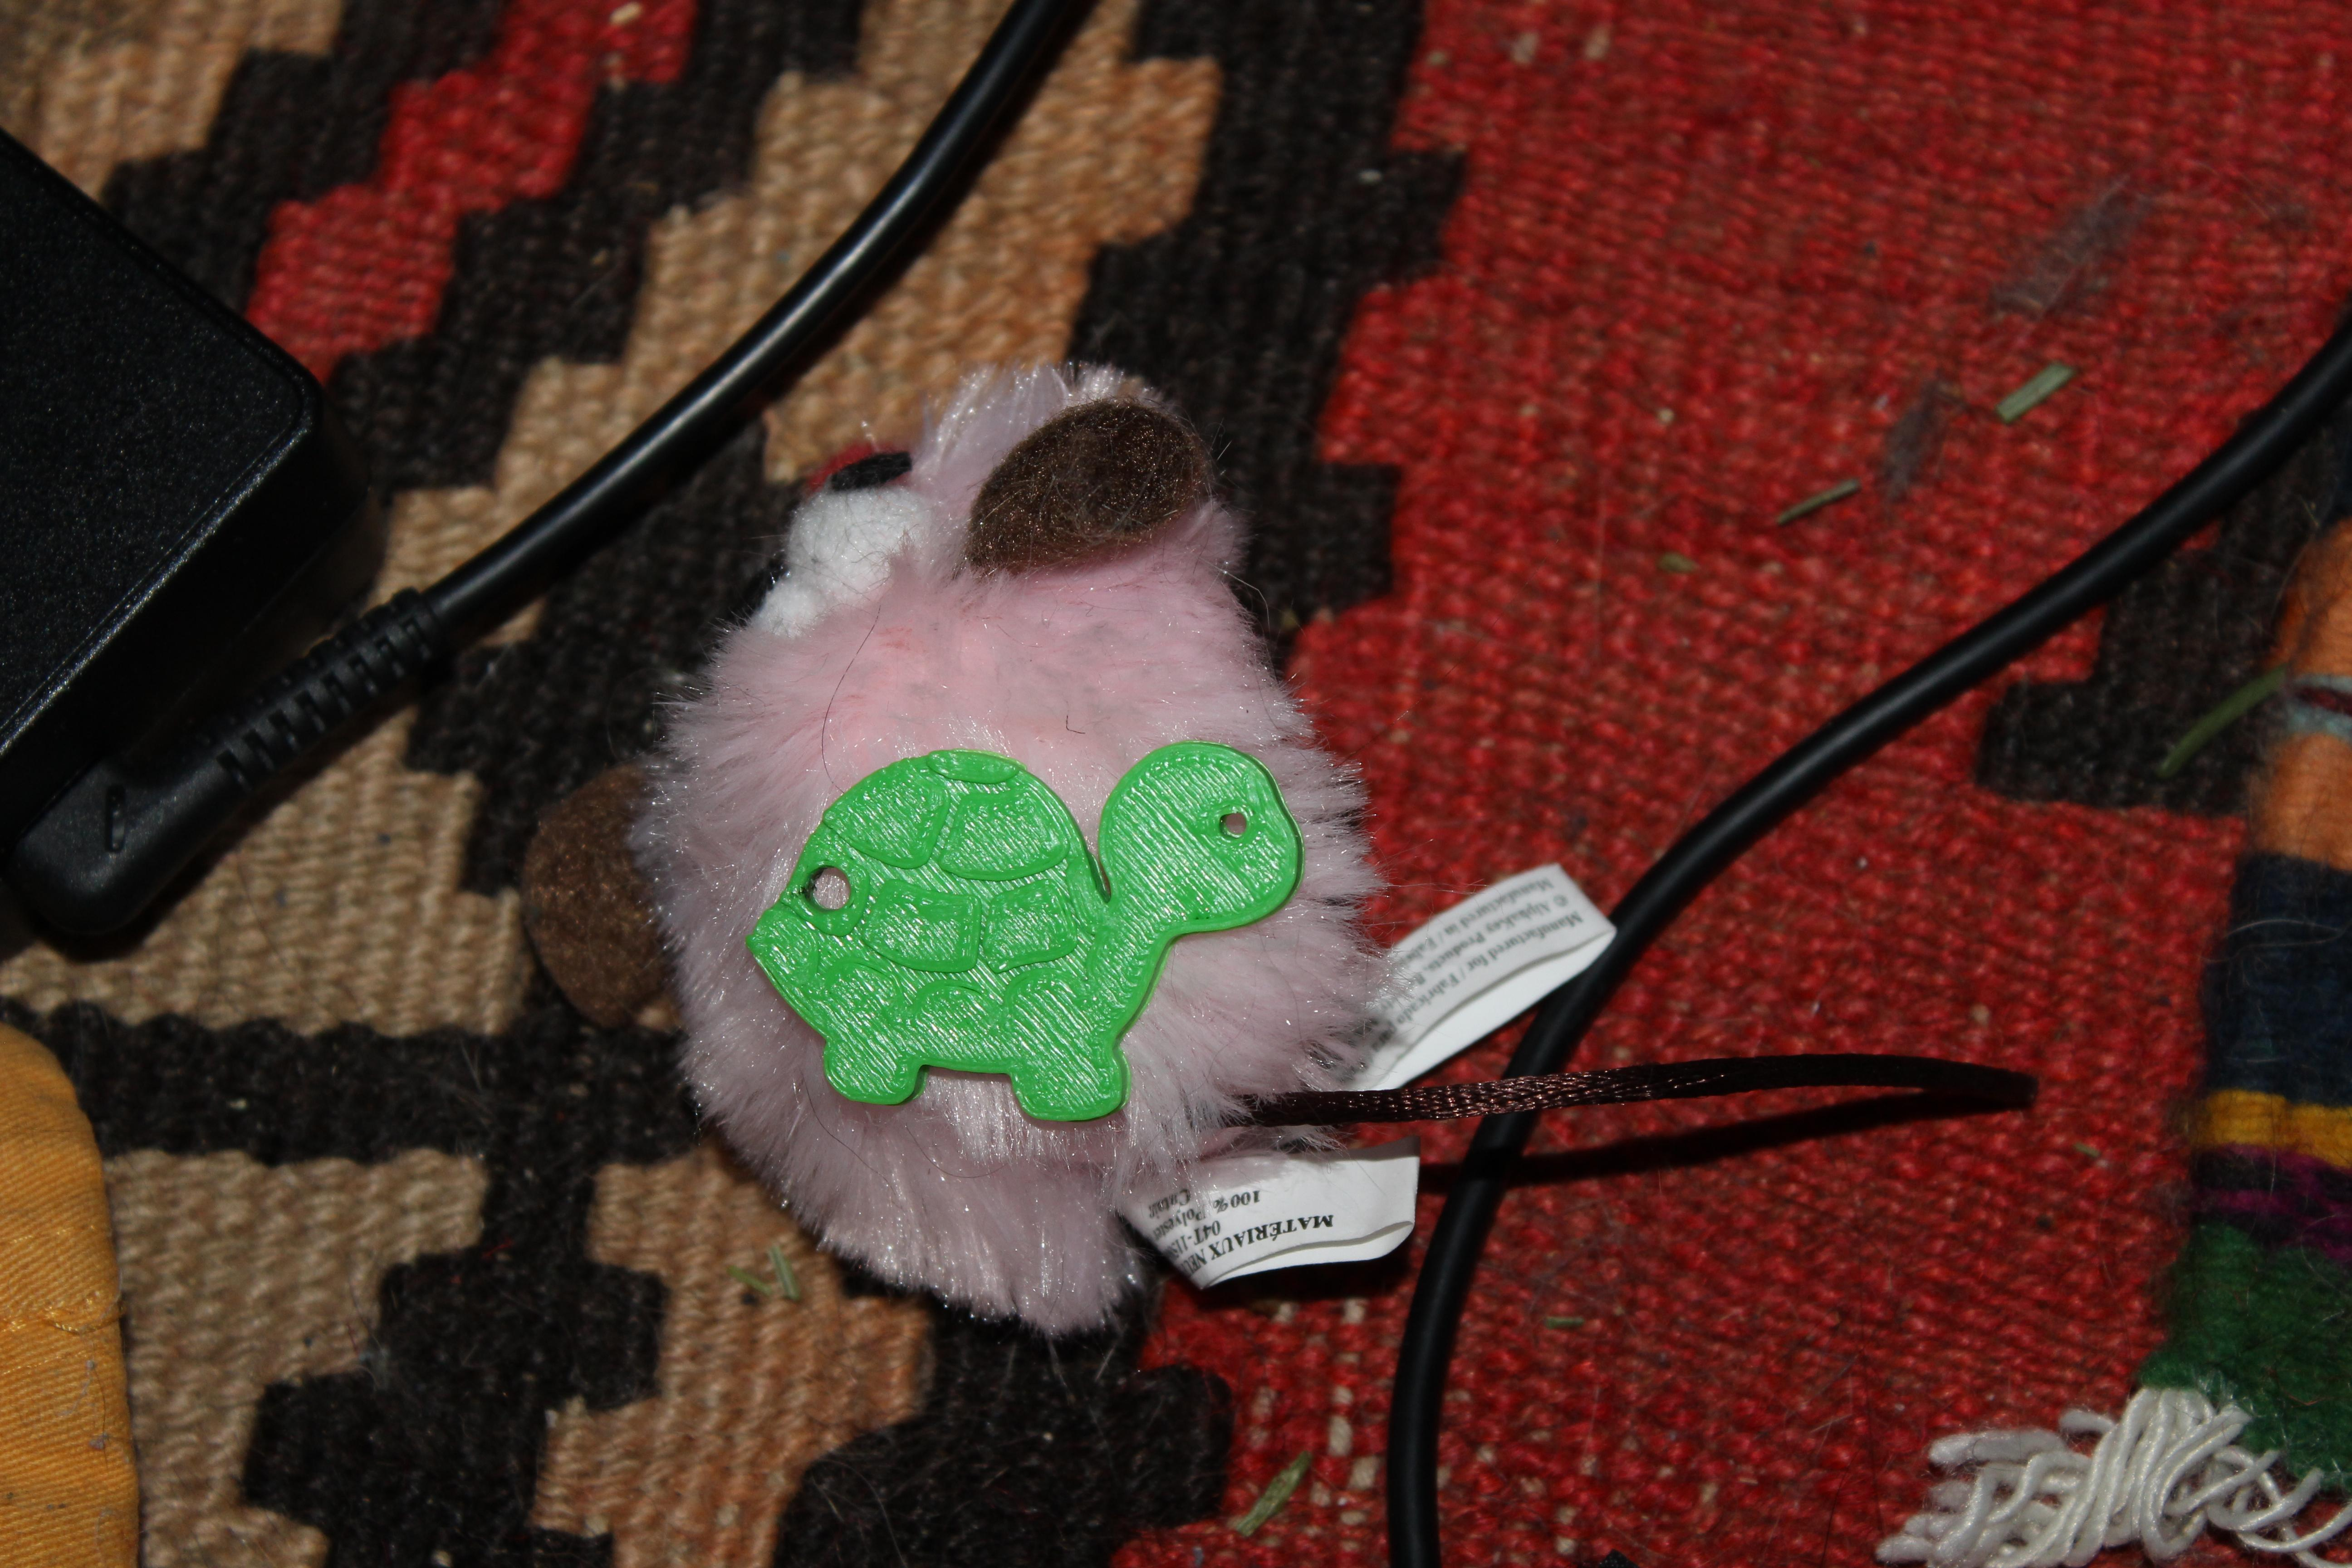turtle: (723, 702, 1334, 1157)
